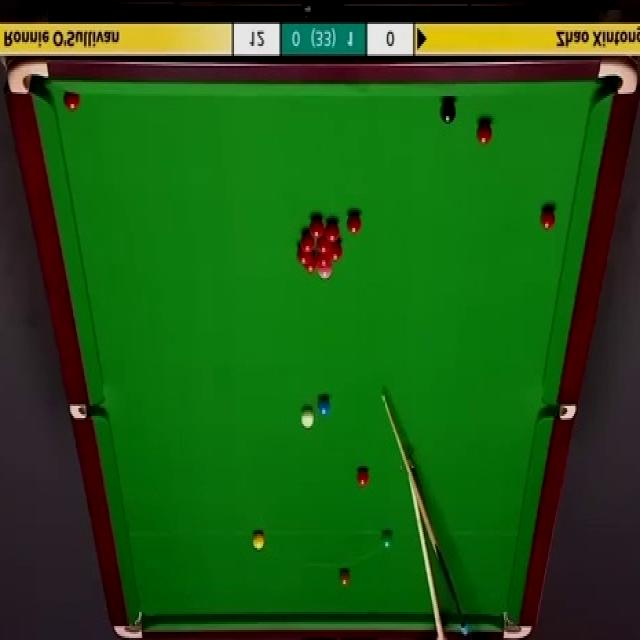black-ball: (440, 98, 456, 123)
blue-ball: (318, 394, 330, 416)
brown-ball: (338, 565, 350, 584)
green-ball: (380, 530, 392, 550)
pink-ball: (316, 268, 331, 282)
red-ball: (64, 89, 80, 114), (308, 220, 324, 243), (324, 219, 338, 244), (540, 207, 555, 229), (477, 121, 492, 143), (345, 210, 359, 232), (296, 246, 312, 264), (301, 232, 314, 253), (356, 465, 368, 487), (306, 253, 318, 274), (328, 243, 342, 259), (315, 256, 329, 268), (318, 243, 332, 250)
white-ball: (300, 406, 315, 429)
yellow-ball: (252, 530, 266, 552)
